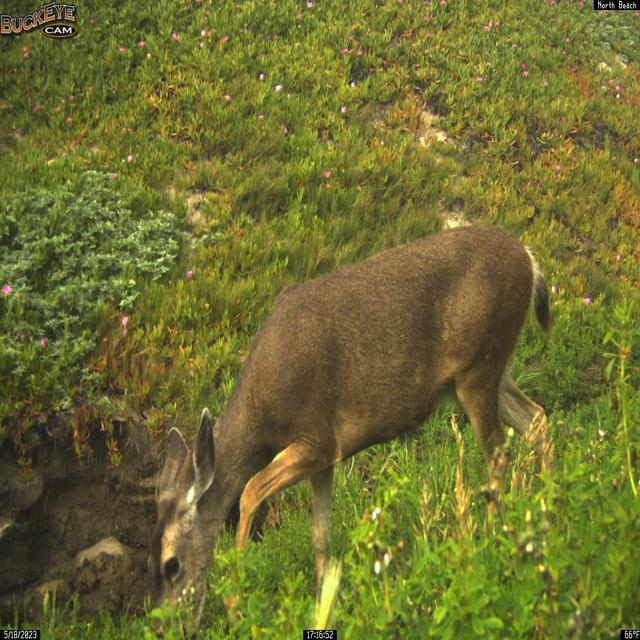deer: (146, 223, 554, 640)
